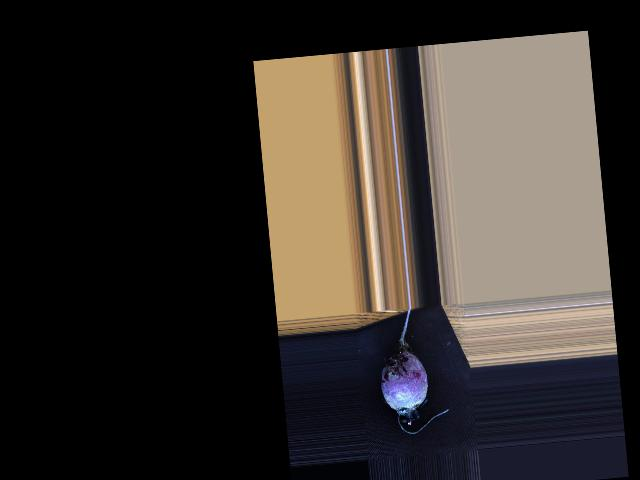beet: (373, 304, 450, 436)
